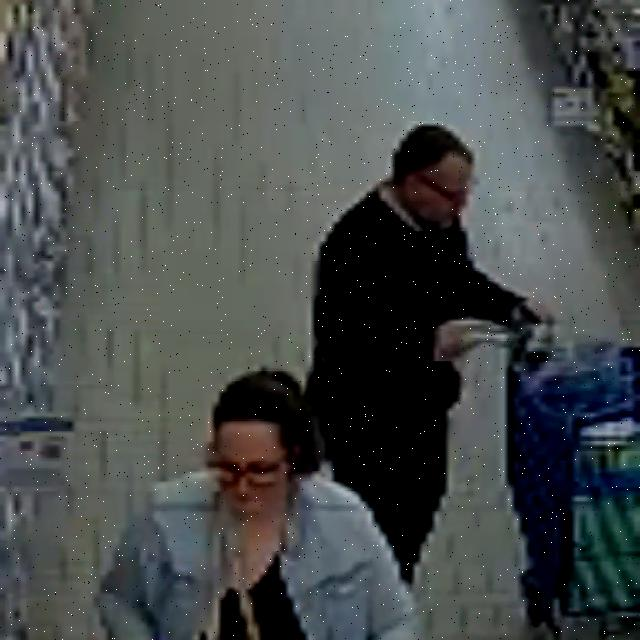article: (515, 321, 573, 379)
hands: (433, 318, 486, 363), (522, 299, 555, 324)
person: (307, 124, 549, 582), (97, 369, 418, 639)
